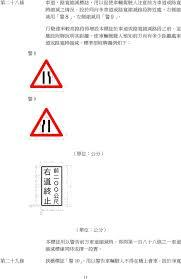narrow_road: (28, 105, 63, 137), (28, 58, 63, 89)
